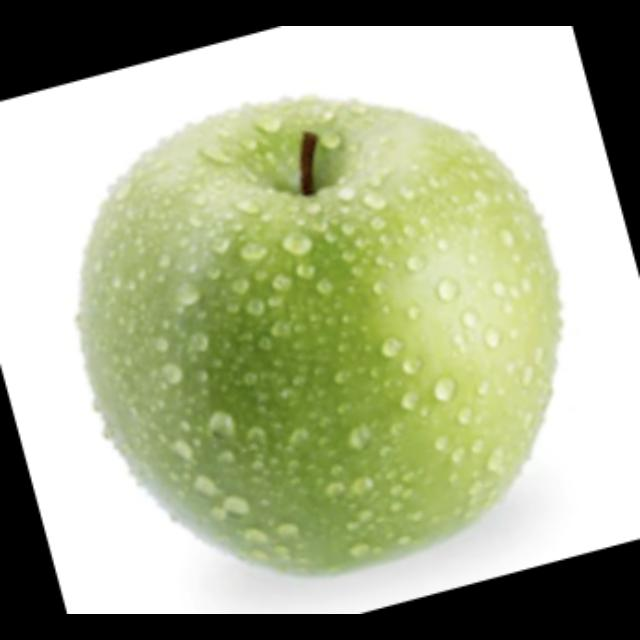Apel Segar: (76, 93, 572, 582)
